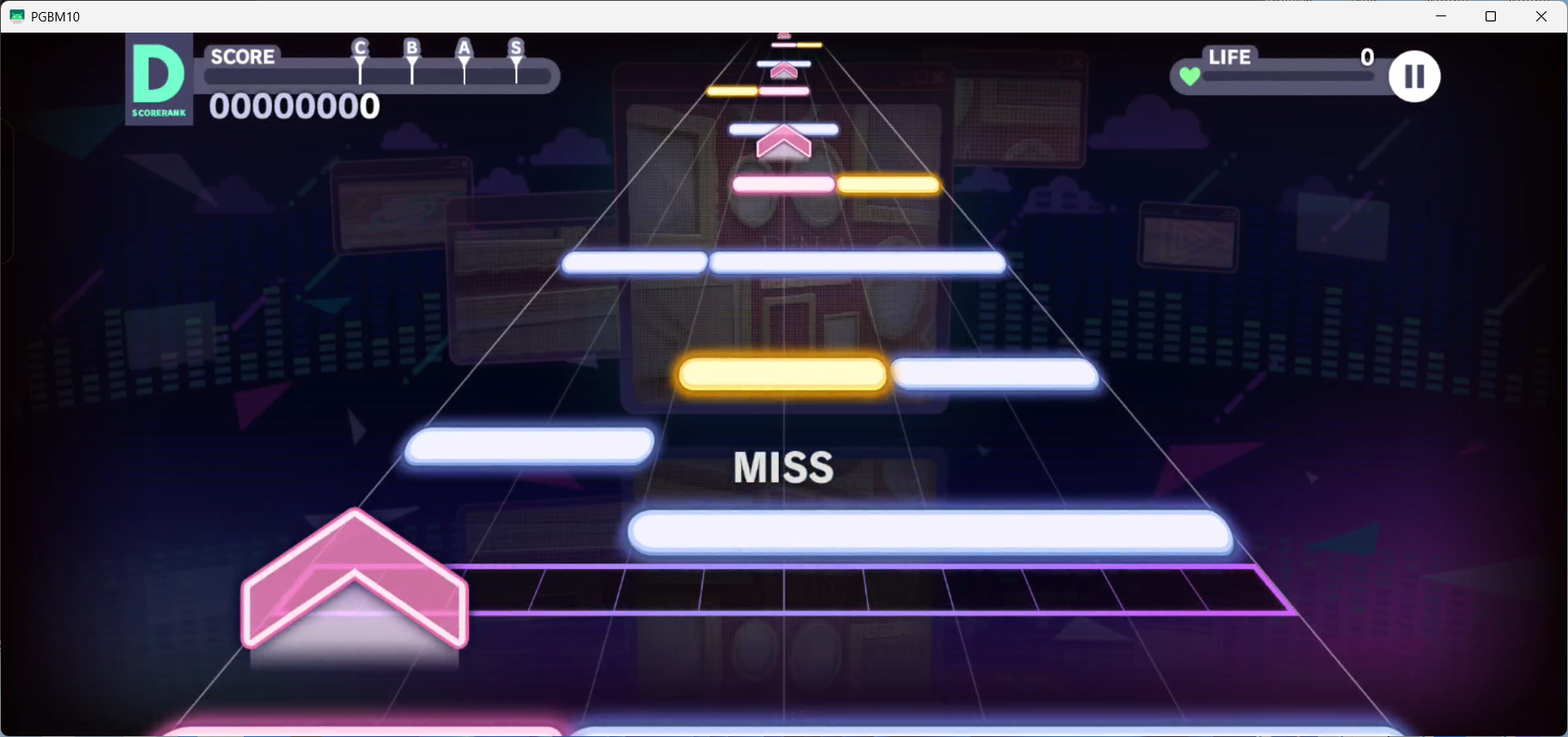flick: (241, 508, 472, 674), (757, 122, 811, 163), (769, 61, 798, 81), (777, 33, 791, 39)
tap: (629, 510, 1231, 558), (404, 428, 655, 467), (890, 357, 1102, 392), (679, 356, 885, 392), (708, 251, 1006, 275), (562, 250, 708, 275), (733, 176, 834, 193), (836, 176, 939, 192), (729, 124, 838, 136), (759, 87, 810, 95), (707, 87, 757, 95), (757, 60, 811, 67), (771, 42, 796, 48), (796, 43, 822, 47)
